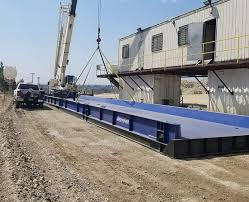Industrial Scale: (44, 93, 249, 161)
